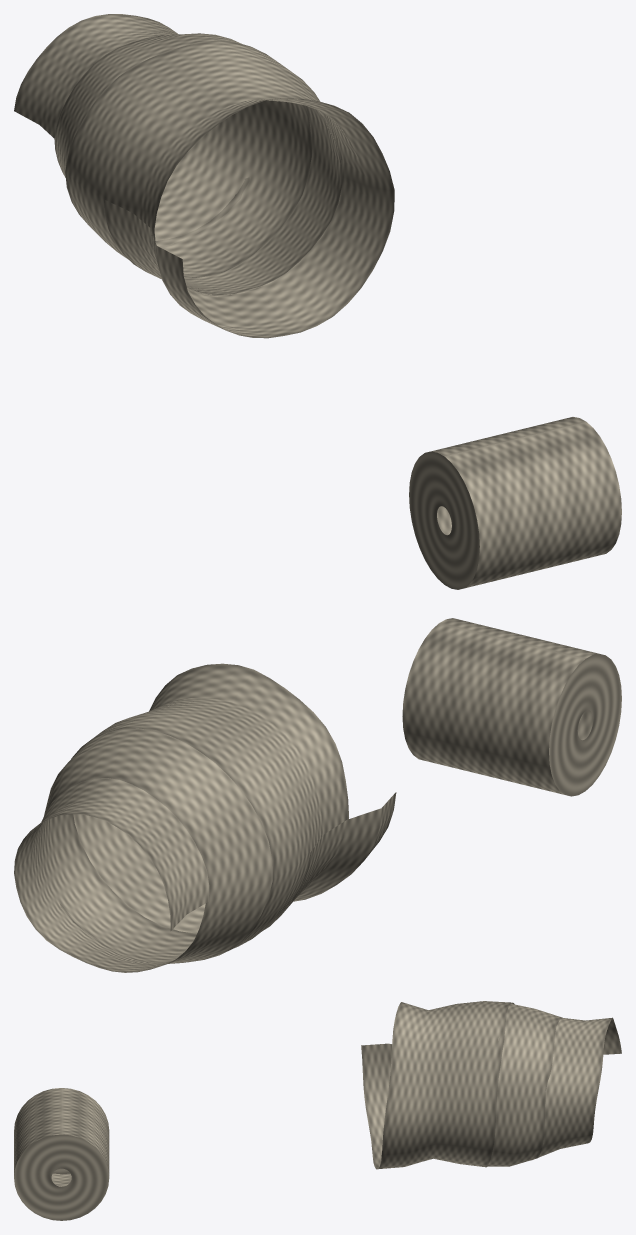
File: bandage.glb
3 renders of one model, top to bottom at view 1: azimuth 30°, elevation 25°; view 2: azimuth 150°, elevation 25°; view 3: azimuth 270°, elevation 25°, orthographic. The views are drawn at different scales.
Visible parts, largest first — view 1: Bandage_wrap, Bandage_roll, Bandage_cap; view 2: Bandage_wrap, Bandage_roll, Bandage_cap; view 3: Bandage_wrap, Bandage_cap, Bandage_roll.
Part boxes in pixels (x1,y1,x2,y2): Bandage_wrap: (14,14,394,338); Bandage_roll: (431,417,621,588); Bandage_cap: (409,451,479,589); Bandage_wrap: (14,663,396,972); Bandage_roll: (402,618,598,794); Bandage_cap: (549,654,621,796); Bandage_wrap: (361,1001,621,1169); Bandage_cap: (14,1134,109,1220); Bandage_roll: (14,1088,109,1186).
Size of the model in its own units: 0.0728 by 0.084 by 0.2423.
2 materials, 2 textured.
